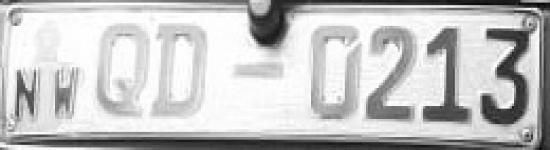-: (230, 57, 286, 81)
0: (303, 19, 362, 124)
1: (421, 18, 476, 133)
2: (363, 22, 421, 126)
3: (481, 20, 533, 126)
D: (149, 16, 228, 123)
N: (10, 66, 48, 124)
Q: (94, 18, 152, 122)
W: (51, 66, 89, 124)
